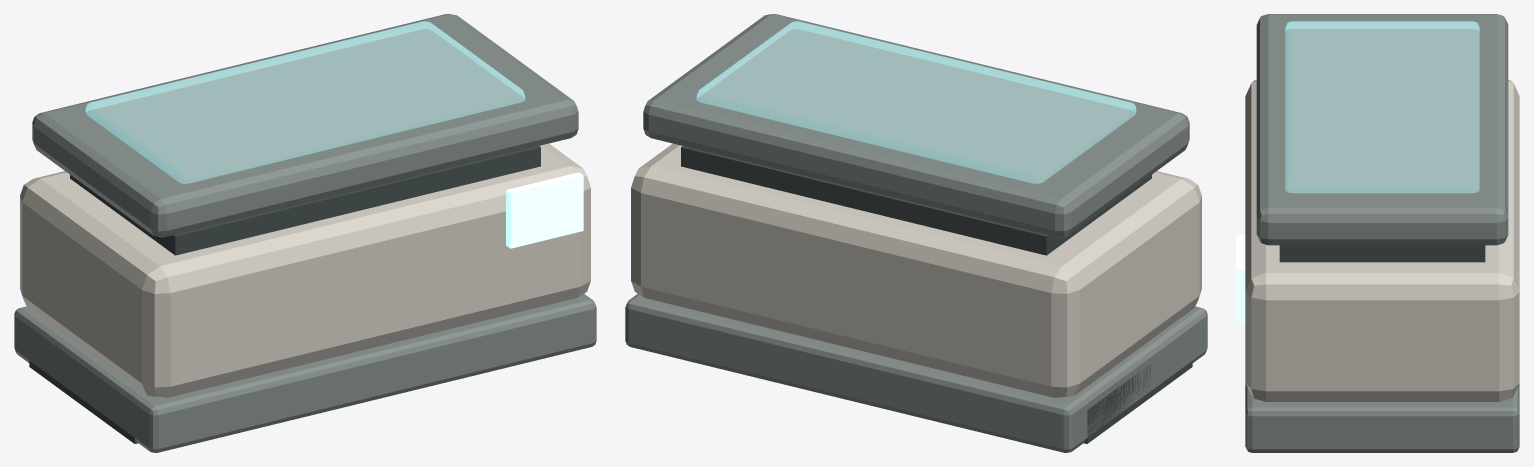
The model's file is prop_cryo_pod_a.glb.
The picture shows the model from 3 angles, left to right: view 1: azimuth 30°, elevation 25°; view 2: azimuth 150°, elevation 25°; view 3: azimuth 270°, elevation 25°; orthographic projection. The views are drawn at different scales.
Parts seen in each view (by area): view 1: prop_cryo_pod_a; view 2: prop_cryo_pod_a; view 3: prop_cryo_pod_a.
Boxes of the visible parts, x1,y1,x2,y2 form: prop_cryo_pod_a: (14, 14, 596, 452); prop_cryo_pod_a: (625, 14, 1207, 452); prop_cryo_pod_a: (1236, 14, 1519, 452).
Bounding box in the file's own units: 2.2 × 1.2 × 1.24.
